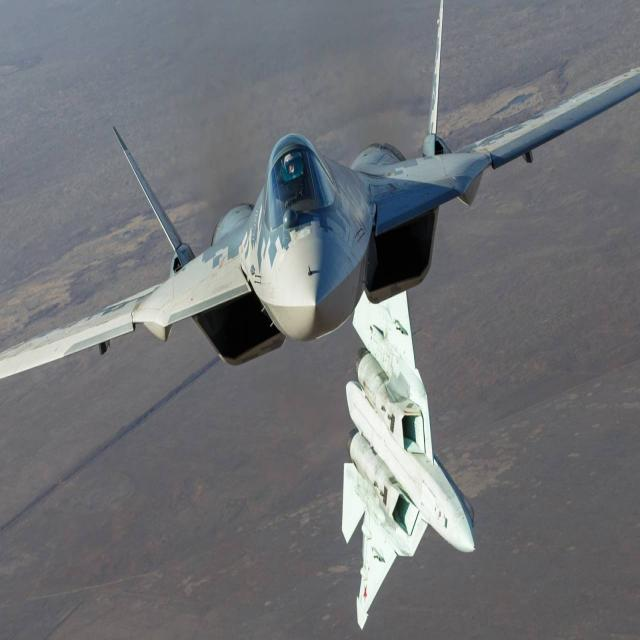MIL_Plane: (0, 1, 640, 378), (342, 290, 476, 630)
